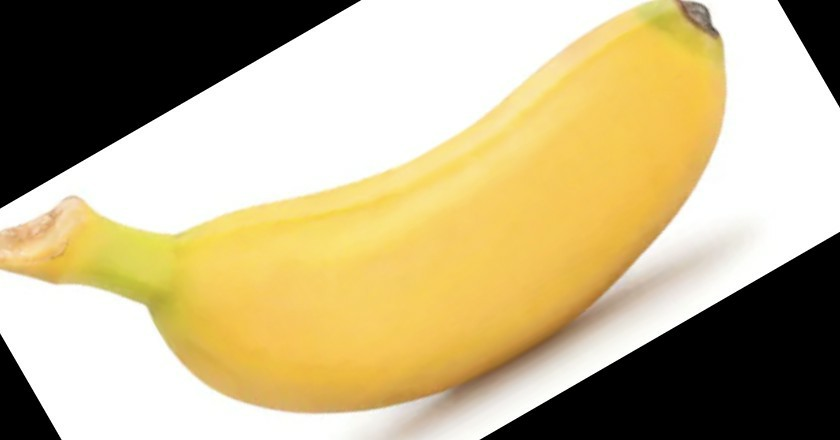fresh_banana: (28, 2, 723, 405)
